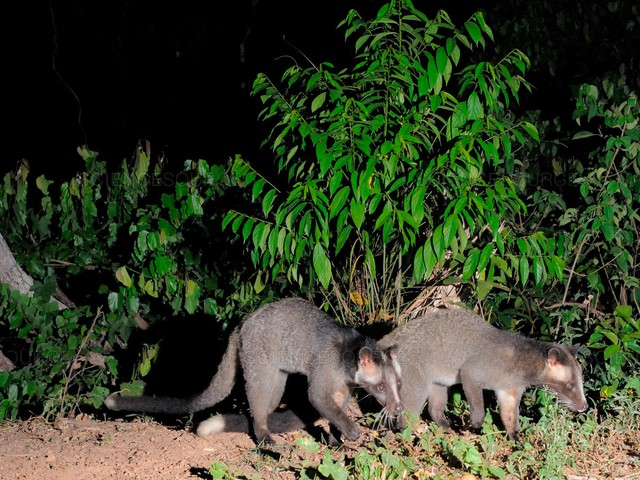civet: (104, 291, 406, 444), (405, 294, 588, 436)
